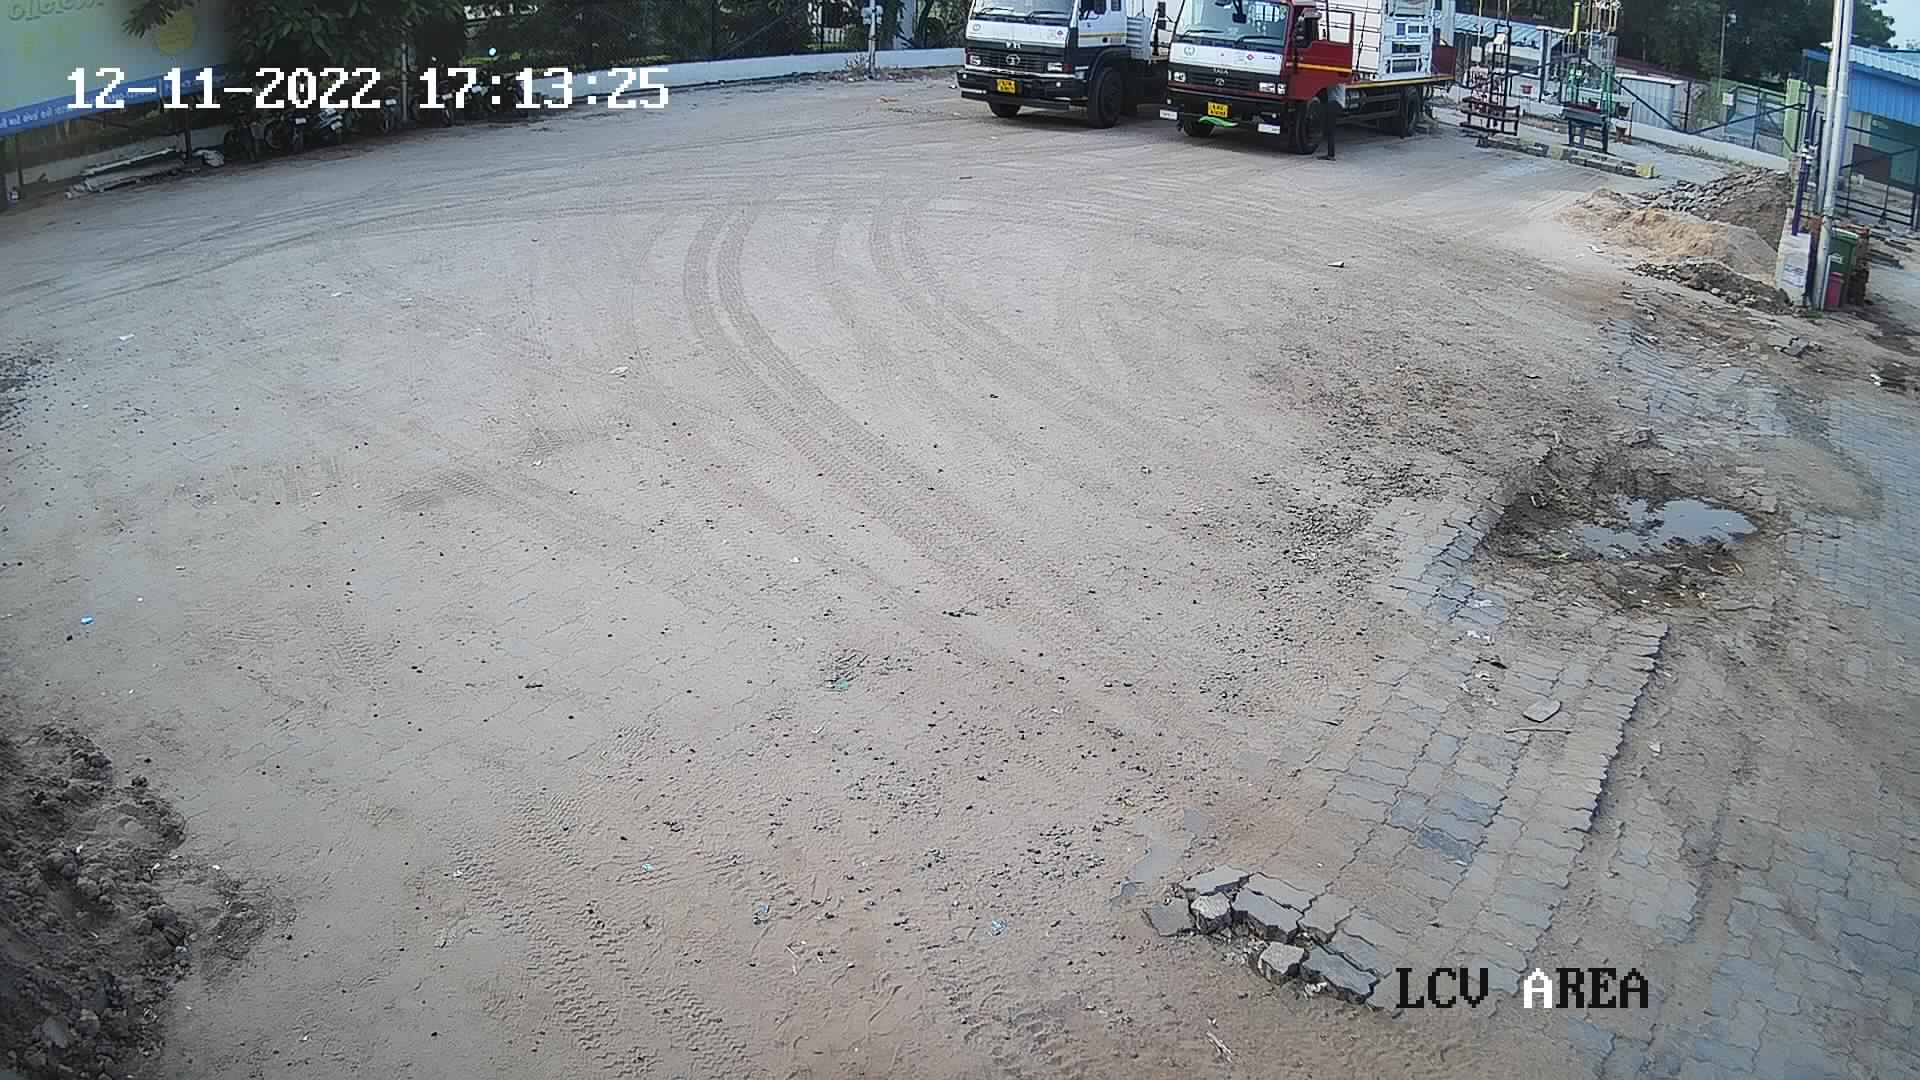HMV: (1135, 1, 1493, 167), (934, 1, 1185, 131)
